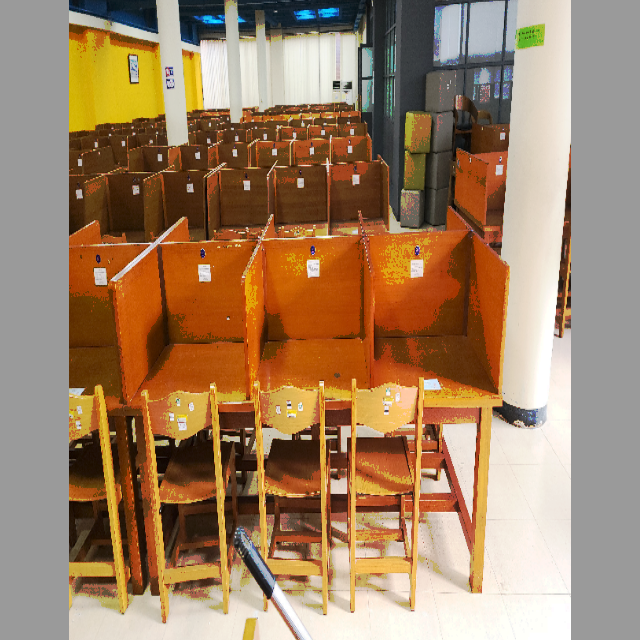empty: (369, 201, 503, 463), (128, 217, 249, 490), (259, 206, 362, 491)
